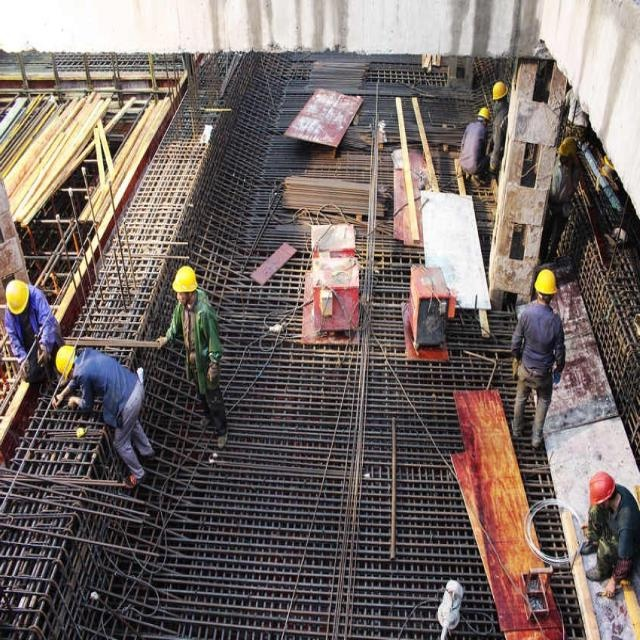Con_Casco: (588, 468, 617, 511), (533, 267, 557, 308), (5, 278, 29, 319), (172, 264, 196, 302), (55, 342, 74, 381)
